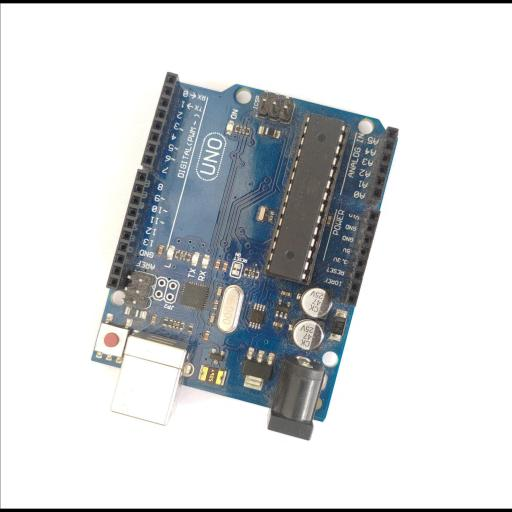Arduino Uno R3: (90, 71, 400, 440)
